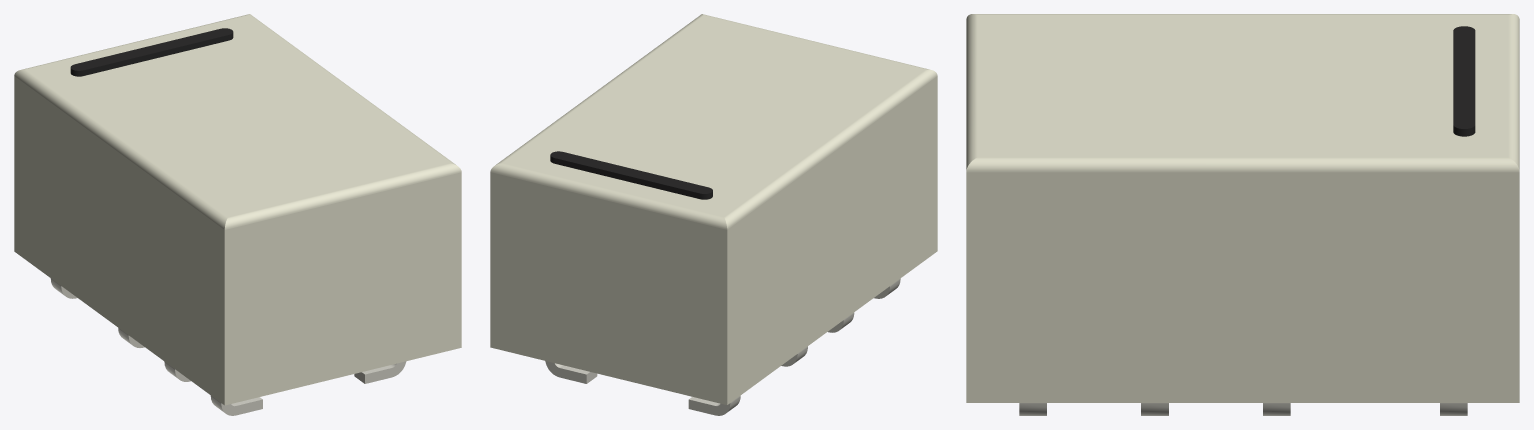
File: kc-relay_dpdt_axicom_imseries_jleg.glb
3 views of the same model, side by side, from view 1: azimuth 30°, elevation 25°; view 2: azimuth 150°, elevation 25°; view 3: azimuth 270°, elevation 25° (orthographic). The views are drawn at different scales.
Visible parts, largest first — view 1: 0.75_0.75_0.6666666666666666_0, 0_0_0_0, 0.6666666666666666_0.6666666666666666_0.5833333333333334_0.8; view 2: 0.75_0.75_0.6666666666666666_0, 0_0_0_0, 0.6666666666666666_0.6666666666666666_0.5833333333333334_0.8; view 3: 0.75_0.75_0.6666666666666666_0, 0_0_0_0, 0.6666666666666666_0.6666666666666666_0.5833333333333334_0.8.
Boxes of the visible parts, box(x1,y1,x2,y2) form: 0.75_0.75_0.6666666666666666_0: box(14, 14, 461, 405); 0_0_0_0: box(70, 28, 233, 76); 0.6666666666666666_0.6666666666666666_0.5833333333333334_0.8: box(50, 278, 406, 415); 0.75_0.75_0.6666666666666666_0: box(490, 14, 937, 404); 0_0_0_0: box(550, 151, 712, 199); 0.6666666666666666_0.6666666666666666_0.5833333333333334_0.8: box(545, 278, 900, 415); 0.75_0.75_0.6666666666666666_0: box(966, 14, 1519, 402); 0_0_0_0: box(1453, 26, 1475, 136); 0.6666666666666666_0.6666666666666666_0.5833333333333334_0.8: box(1019, 403, 1467, 415).
Size of the model in its own units: 0.65 by 0.58 by 1.
